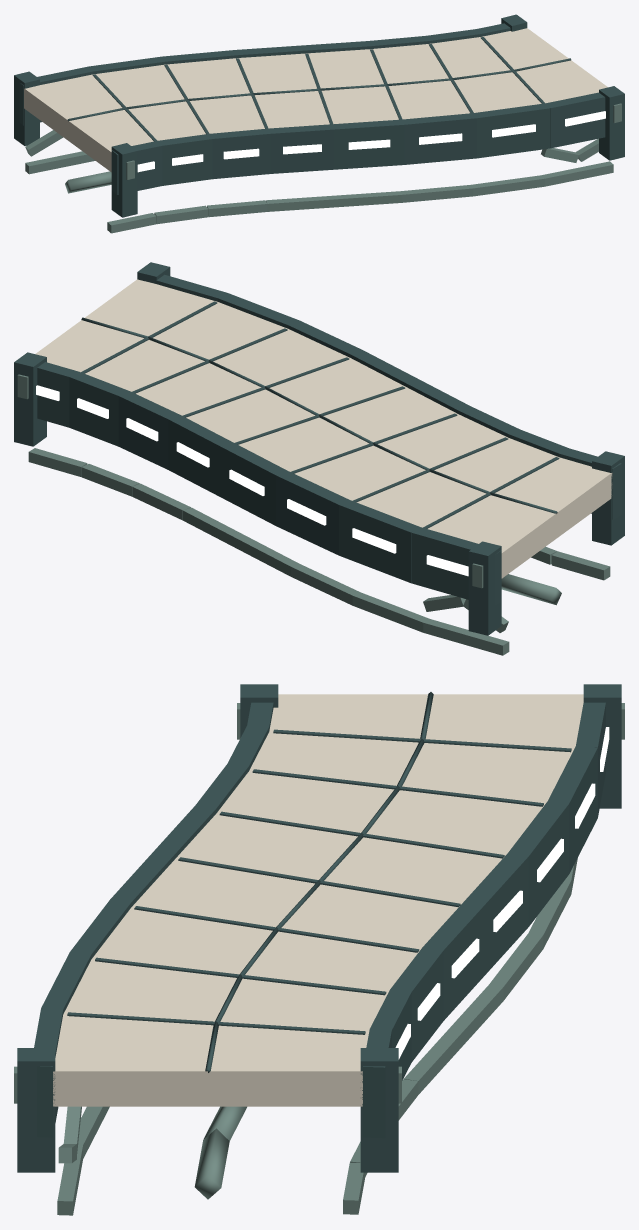
The model's file is Sbend_R2_lab.glb.
The picture shows the model from 3 angles, top to bottom: view 1: azimuth 30°, elevation 25°; view 2: azimuth 150°, elevation 25°; view 3: azimuth 270°, elevation 25°; orthographic projection. The views are drawn at different scales.
Parts seen in each view (by area): view 1: Sbend_R2; view 2: Sbend_R2; view 3: Sbend_R2.
Part boxes in pixels (x1,y1,x2,y2): Sbend_R2: (14, 14, 624, 233); Sbend_R2: (14, 262, 624, 655); Sbend_R2: (14, 684, 624, 1215).
Bounding box in the file's own units: 8.05 × 1.52 × 5.48.
